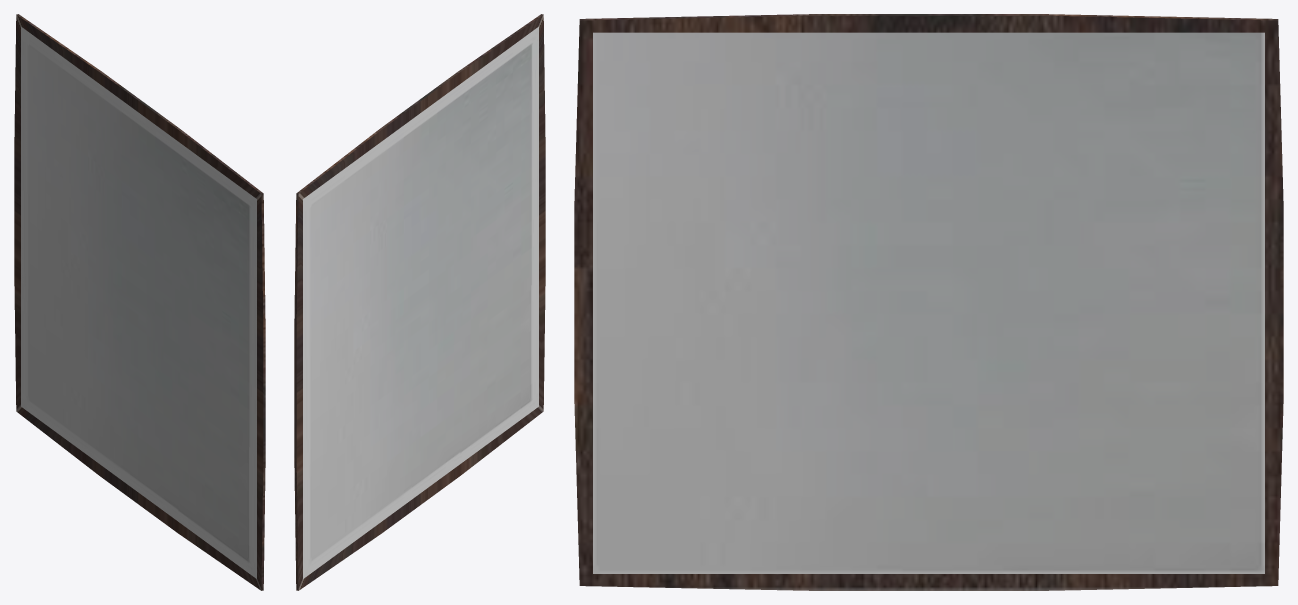
Rendered from Mirror002.FBX.
3 views of the same model, side by side, from view 1: azimuth 30°, elevation 25°; view 2: azimuth 150°, elevation 25°; view 3: azimuth 270°, elevation 25° (orthographic). The views are drawn at different scales.
Visible parts, largest first — view 1: Mirror002; view 2: Mirror002; view 3: Mirror002.
Boxes of the visible parts, bbox=[...] form: Mirror002: bbox=[14, 14, 265, 590]; Mirror002: bbox=[294, 14, 545, 590]; Mirror002: bbox=[574, 14, 1283, 590].
Bounding box in the file's own units: 1 × 170 × 190.
